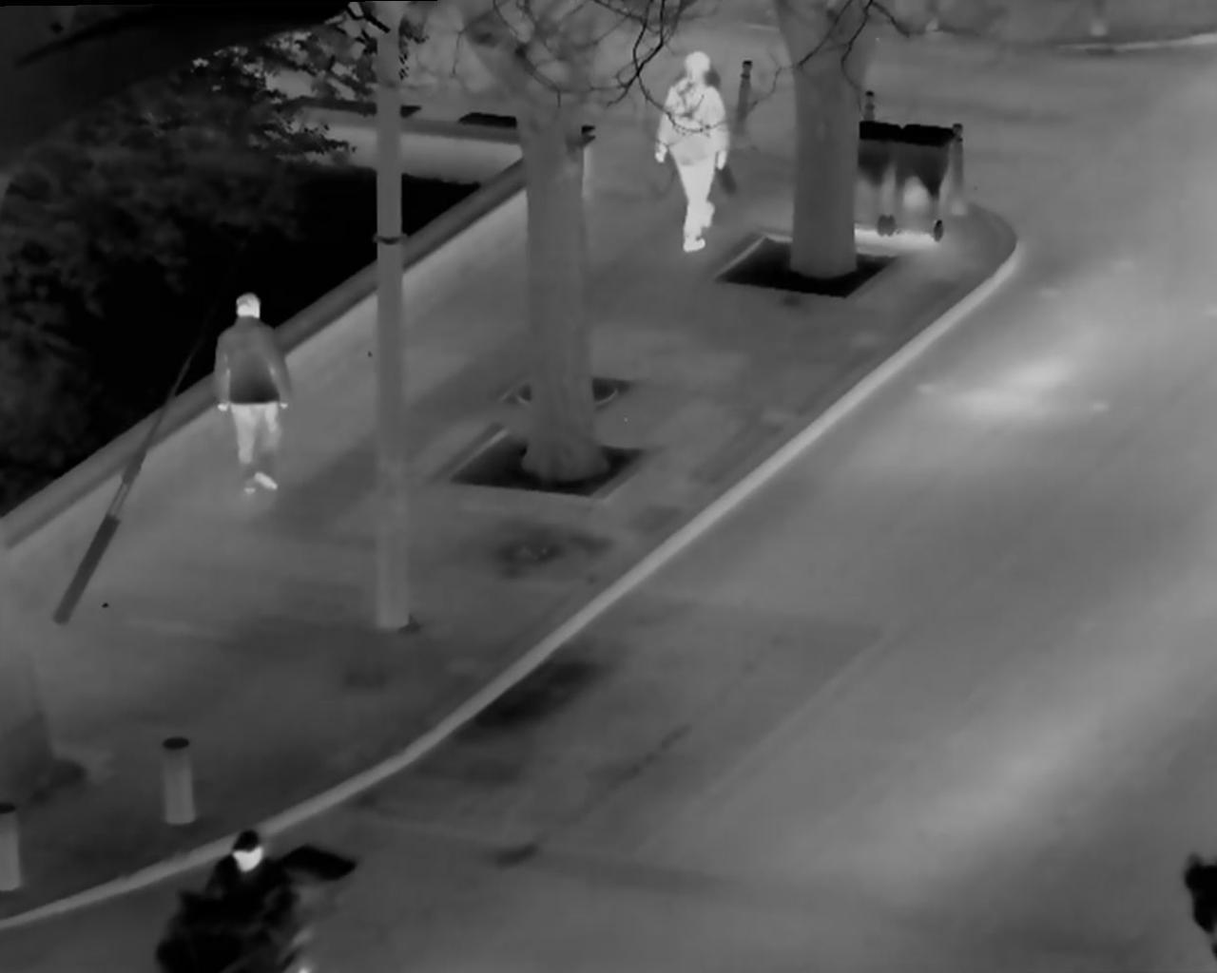person: (198, 273, 299, 502), (645, 34, 742, 271), (191, 821, 316, 959)
